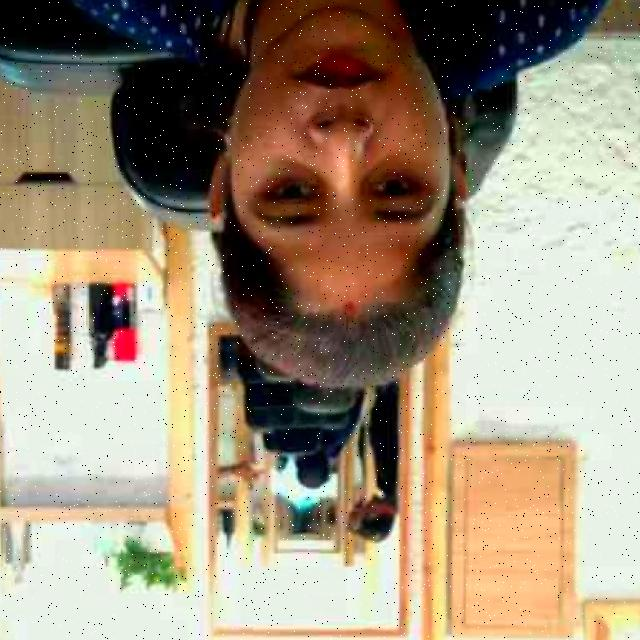puffy_eyes: (276, 158, 319, 178), (365, 154, 401, 177)
